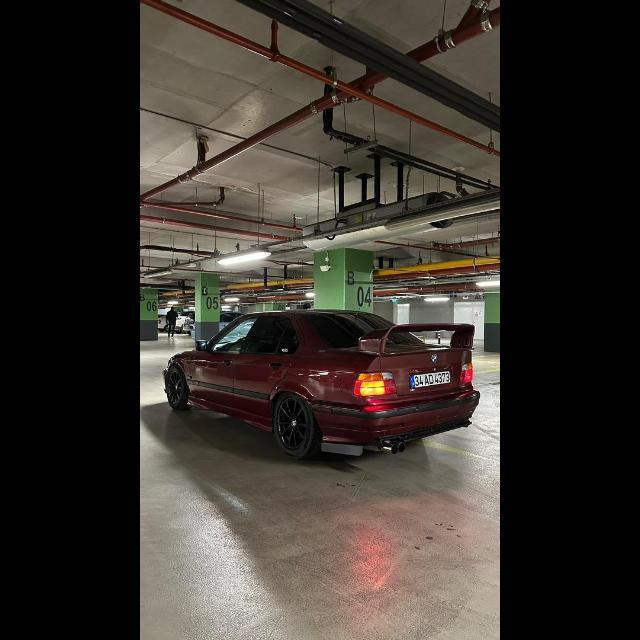Plaka: (411, 369, 451, 387)
